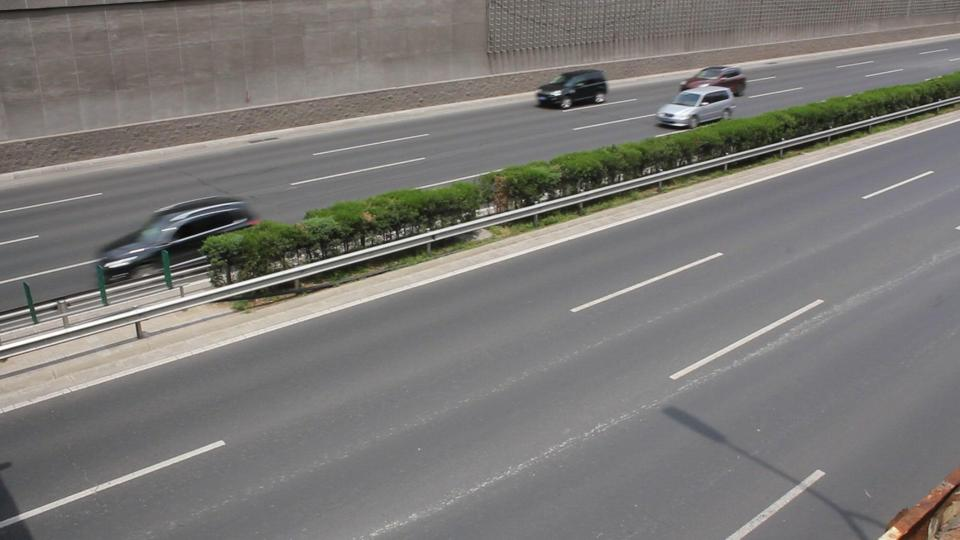Car: (93, 198, 259, 299), (654, 85, 732, 131), (534, 68, 605, 109), (678, 67, 745, 101)
